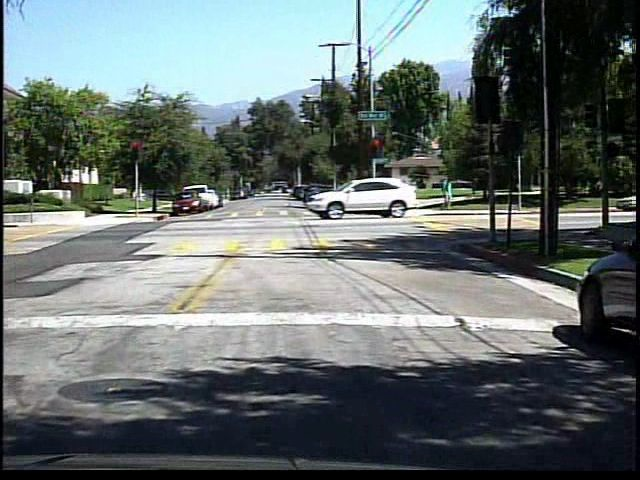person: (439, 174, 456, 214)
